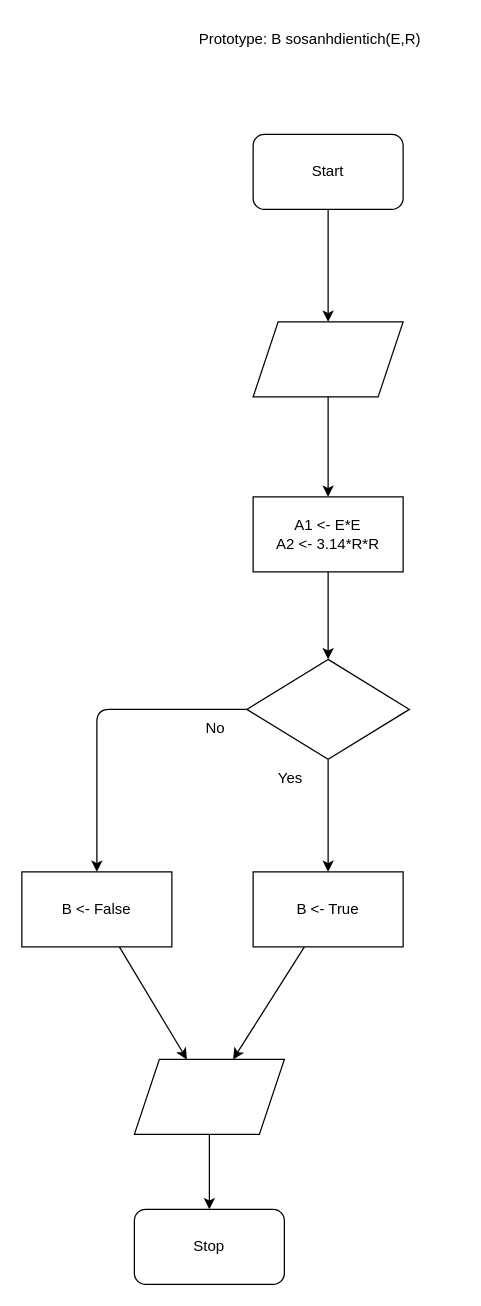
The diagram is 481 pixels wide and 1306 high, and some of its shapes have lost their labels. Each missing label, with the centre of its shape:
"A1>=A2?" goes at point 327,708.
"Input E,R" goes at point 327,359.
"Print B" goes at point 208,1096.
